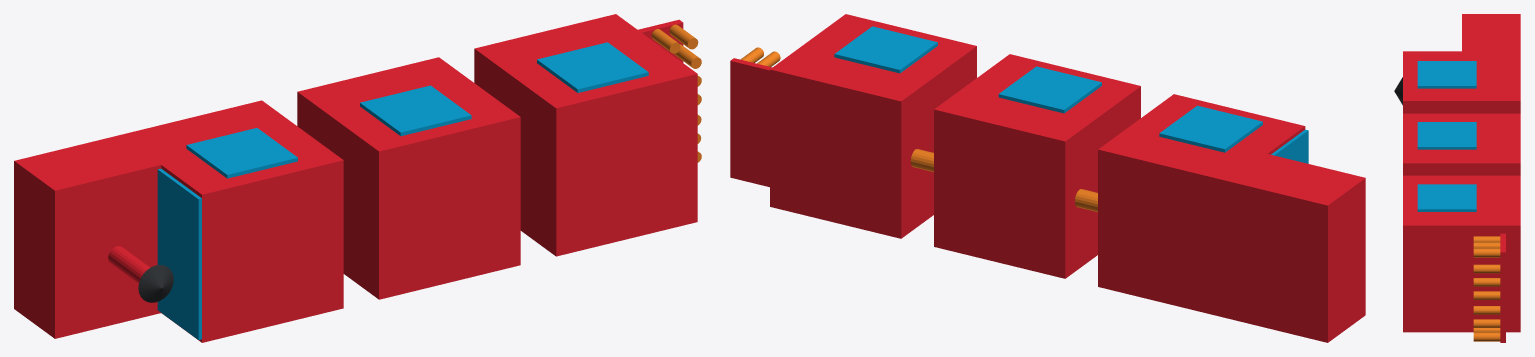
File: tinker.obj
3 views of the same model, side by side, from view 1: azimuth 30°, elevation 25°; view 2: azimuth 150°, elevation 25°; view 3: azimuth 270°, elevation 25° (orthographic). The views are drawn at different scales.
Parts seen in each view (by area): view 1: group_0_15277357, group_0_40919, group_0_16089887, group_0_2829873; view 2: group_0_15277357, group_0_40919, group_0_16089887; view 3: group_0_15277357, group_0_40919, group_0_16089887, group_0_2829873.
Part boxes in pixels (x1=…): group_0_15277357: x1=14, y1=14, x2=697, y2=342; group_0_40919: x1=157, y1=42, x2=648, y2=339; group_0_16089887: x1=651, y1=24, x2=701, y2=162; group_0_2829873: x1=138, y1=265, x2=173, y2=302; group_0_15277357: x1=730, y1=14, x2=1365, y2=342; group_0_40919: x1=834, y1=26, x2=1308, y2=163; group_0_16089887: x1=740, y1=47, x2=1097, y2=212; group_0_15277357: x1=1403, y1=14, x2=1520, y2=342; group_0_40919: x1=1417, y1=61, x2=1476, y2=211; group_0_16089887: x1=1473, y1=236, x2=1500, y2=341; group_0_2829873: x1=1394, y1=77, x2=1402, y2=105.
Bounding box in the file's own units: 185 × 42 × 43.
